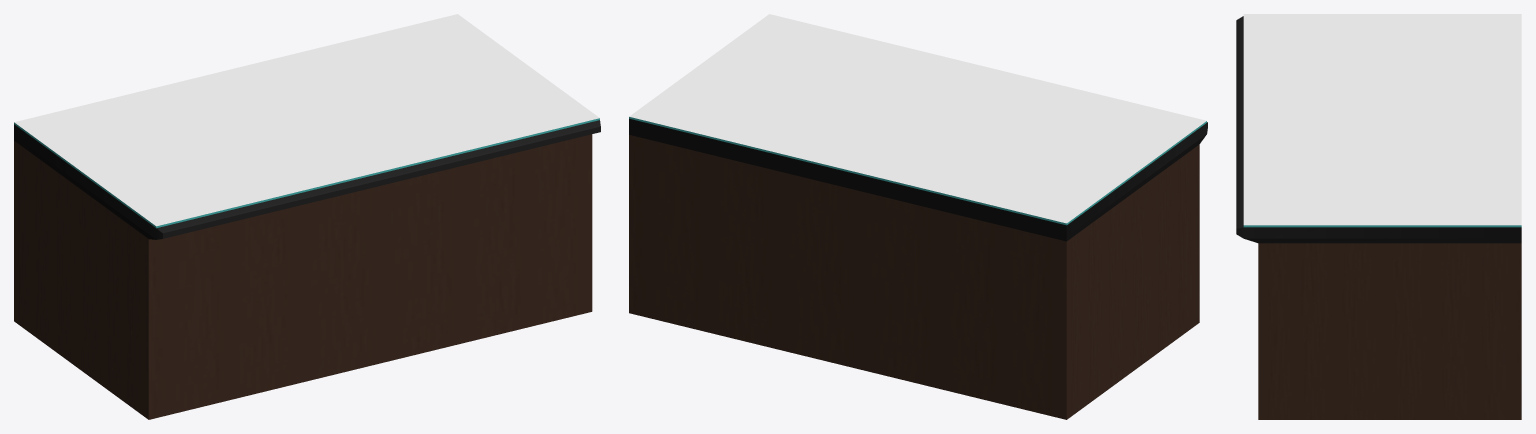
The model's file is Counter_04.FBX.
3 renders of one model, left to right at view 1: azimuth 30°, elevation 25°; view 2: azimuth 150°, elevation 25°; view 3: azimuth 270°, elevation 25°, orthographic. The views are drawn at different scales.
Visible parts, largest first — view 1: Countertop; view 2: Countertop; view 3: Countertop.
Part boxes in pixels (x1,y1,x2,y2): Countertop: (14,14,600,419); Countertop: (629,14,1207,419); Countertop: (1236,14,1521,419).
Bounding box in the file's own units: 350 × 150 × 199.
